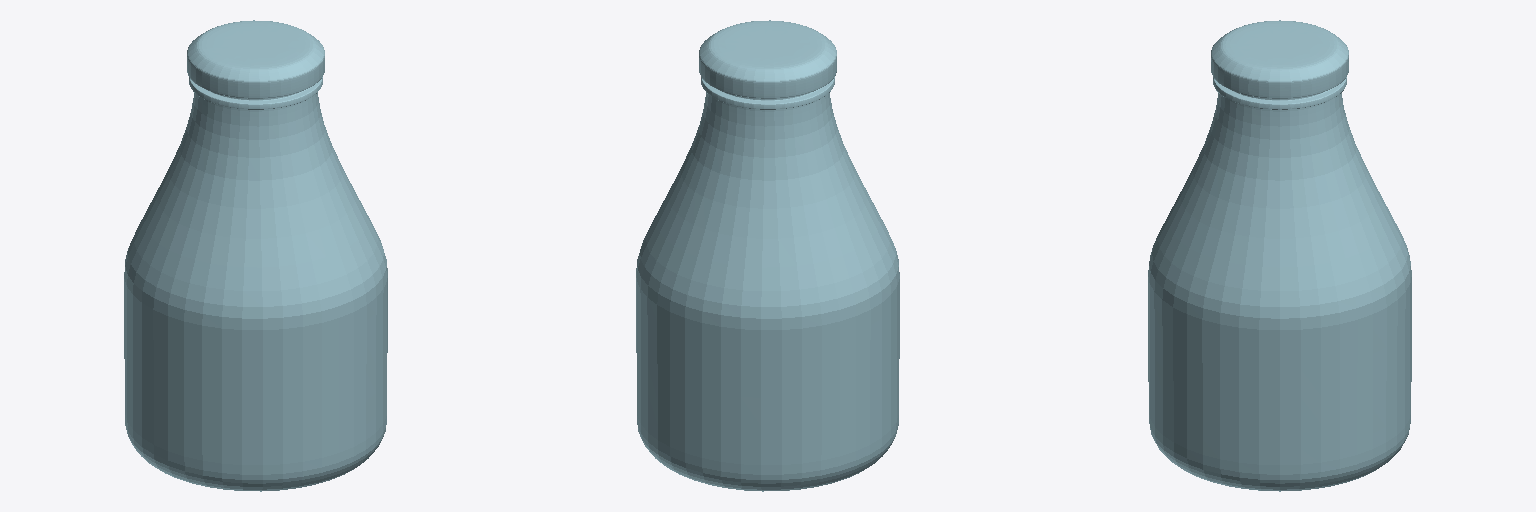
URDF robot description (bottle.urdf):
<?xml version="1.0" ?>
<robot name="bottle.urdf">
  <material name="Light Grey">
    <color rgba=".66 .8 .84 1"/>
  </material>
  <link name="baseLink">
    <inertial>
      <origin rpy="0 0 0" xyz="0 0 0"/>
      <mass value=".0"/>
      <inertia ixx="1" ixy="0" ixz="0" iyy="1" iyz="0" izz="1"/>
    </inertial>
    <visual>
      <origin rpy="0 0 0" xyz="0 0 0"/>
      <geometry>
			  <mesh filename="bottle.obj" scale="2 2 1"/>
      </geometry>
      <material name="Light Grey"/>
    </visual>
  </link>
</robot>

--- Render facts (derived) ---
Views: 3 orthographic renders of the robot side by side, from view 1: azimuth 30°, elevation 25°; view 2: azimuth 150°, elevation 25°; view 3: azimuth 270°, elevation 25°.
Model bottle.urdf with 1 links and 0 joints (none), rooted at baseLink, posed all joints at 0.
Visible links, largest first — view 1: baseLink; view 2: baseLink; view 3: baseLink.
Boxes of the visible links, <box> form: baseLink: <box>124,20,387,491</box>; baseLink: <box>636,20,899,491</box>; baseLink: <box>1148,20,1411,491</box>.
Bounding box of the posed robot: 8.7 × 8.7 × 14.6 m (x, y, z).
Meshes: 1 distinct files referenced, 1 mesh visuals loaded (1 OBJ).
